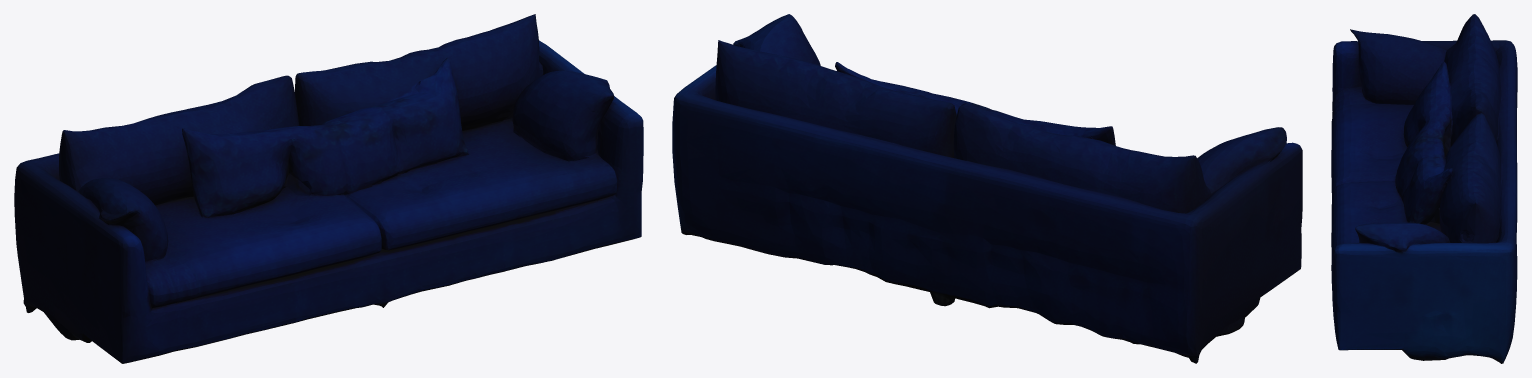
File: mood-1.glb
3 views of the same model, side by side, from view 1: azimuth 30°, elevation 25°; view 2: azimuth 150°, elevation 25°; view 3: azimuth 270°, elevation 25° (orthographic). The views are drawn at different scales.
Parts seen in each view (by area): view 1: world; view 2: world; view 3: world.
Part boxes in pixels (bbox=[...]): world: bbox=[14, 14, 643, 363]; world: bbox=[672, 14, 1302, 363]; world: bbox=[1331, 14, 1517, 363].
Size of the model in its own units: 0.9978 by 0.3521 by 0.3699.
1 material, 1 textured.
